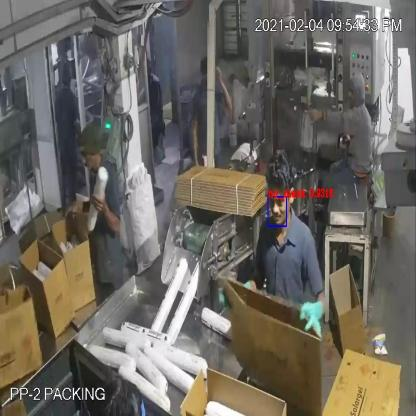glove: (289, 294, 328, 338)
no_glove: (88, 191, 128, 244), (215, 51, 233, 118), (188, 115, 206, 179)
